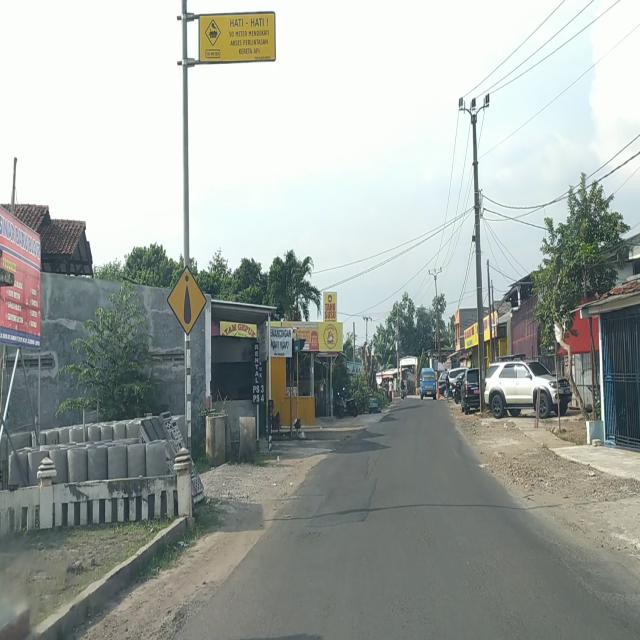Drain Hole: (300, 526, 324, 544)
